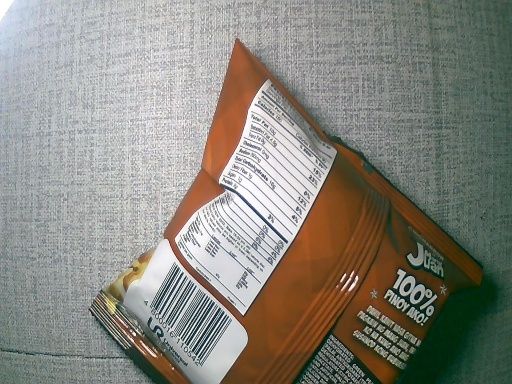plastic: (87, 44, 482, 384)
